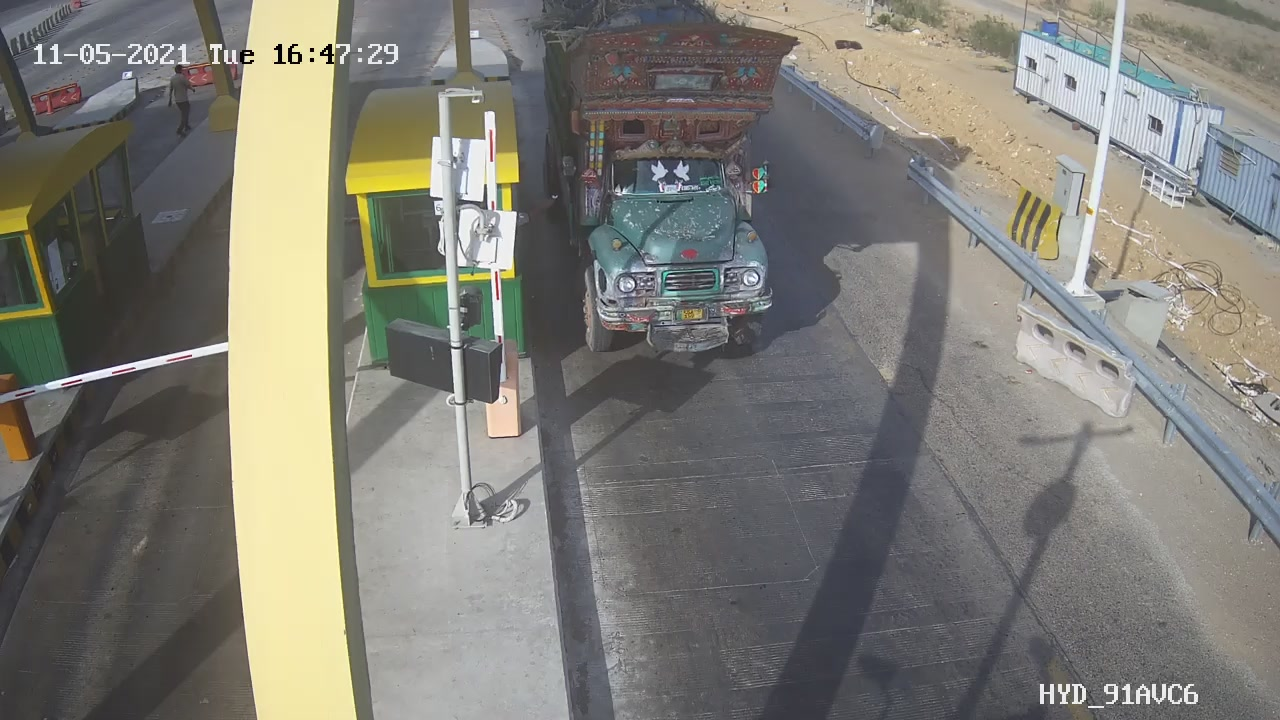F5: (518, 3, 825, 381)
